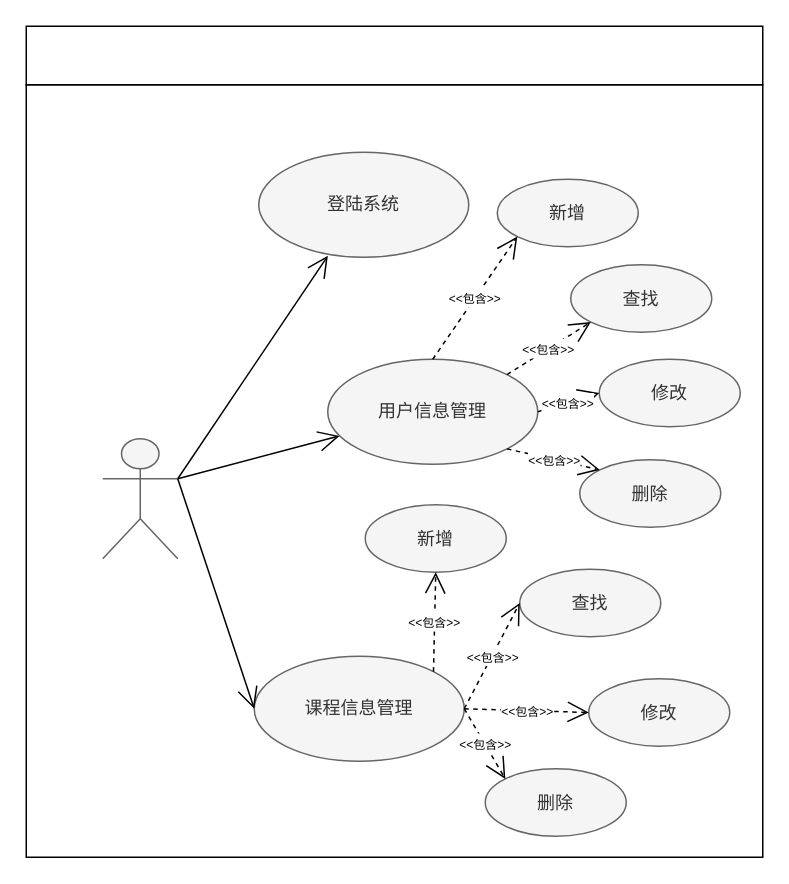
Some shapes in this 789 by 884 pixel diagram are drawn without their labels. The shapes that lost their labels are listed below. From the top down, each one's centre as x and y in pixels, then its label:
At [394,55]: "管理员用例图示".
At [139,498]: "管理员".
